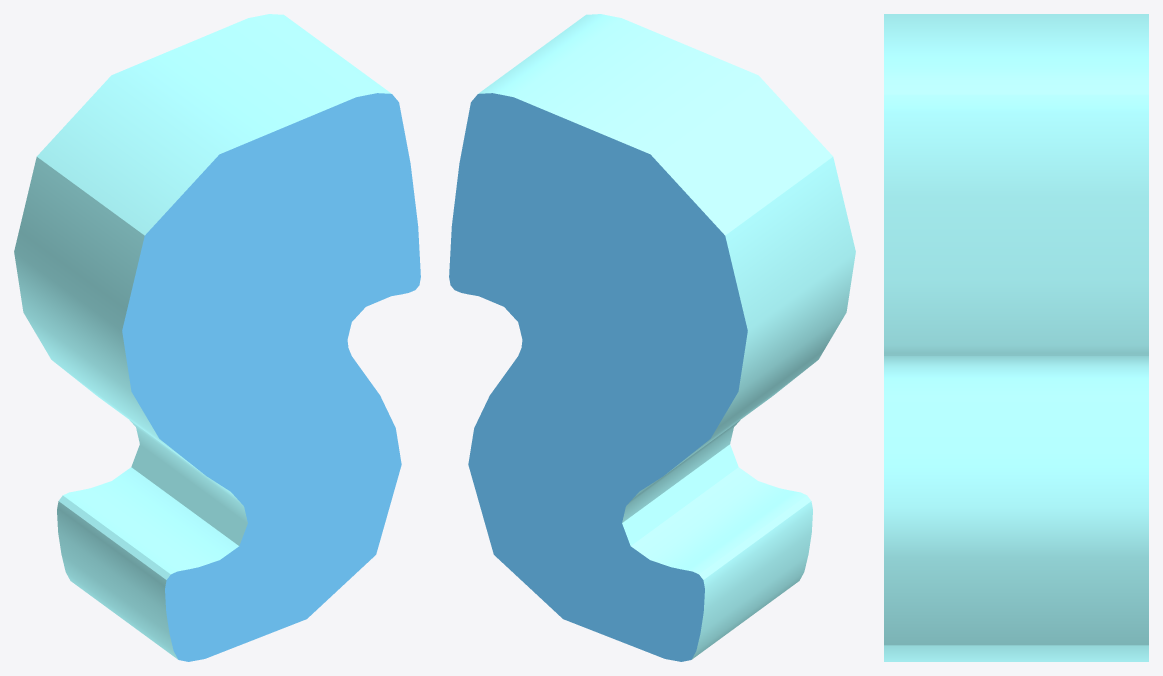
The picture shows the model from 3 angles, left to right: view 1: azimuth 30°, elevation 25°; view 2: azimuth 150°, elevation 25°; view 3: azimuth 270°, elevation 25°; orthographic projection. The views are drawn at different scales.
Parts seen in each view (by area): view 1: s; view 2: s; view 3: s.
Boxes of the visible parts, x1,y1,x2,y2 form: s: (14, 14, 420, 661); s: (449, 14, 855, 661); s: (884, 14, 1148, 661).
Size of what is drawn, in the model's own units: 0.2874 by 0.4824 by 0.18.
